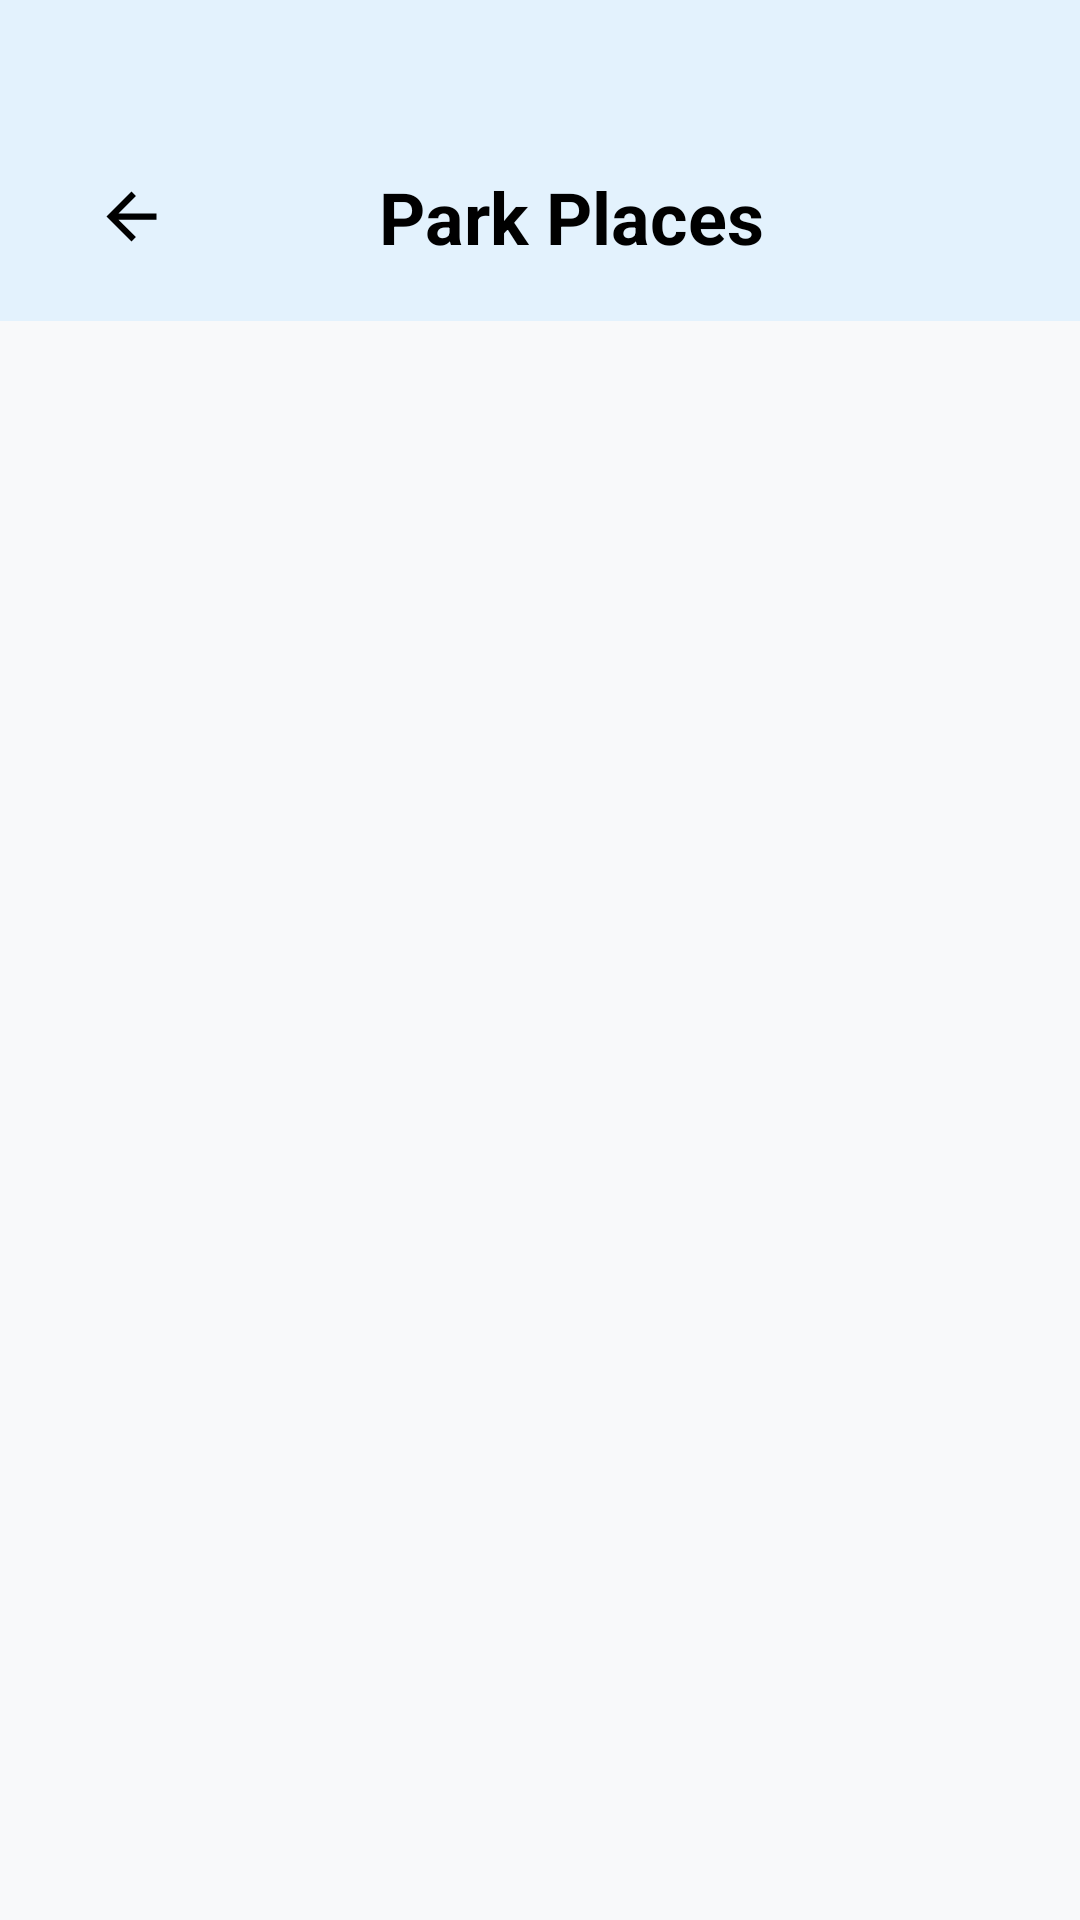

Named icons in this screenshot (1080x1920) and their centers, (x=x, y=y):
back: (x=131, y=216)
